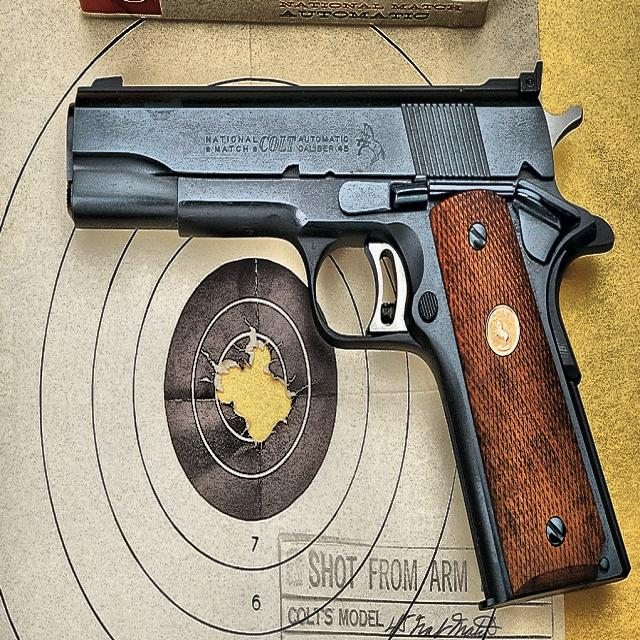Colt m1911: (64, 58, 630, 610)
